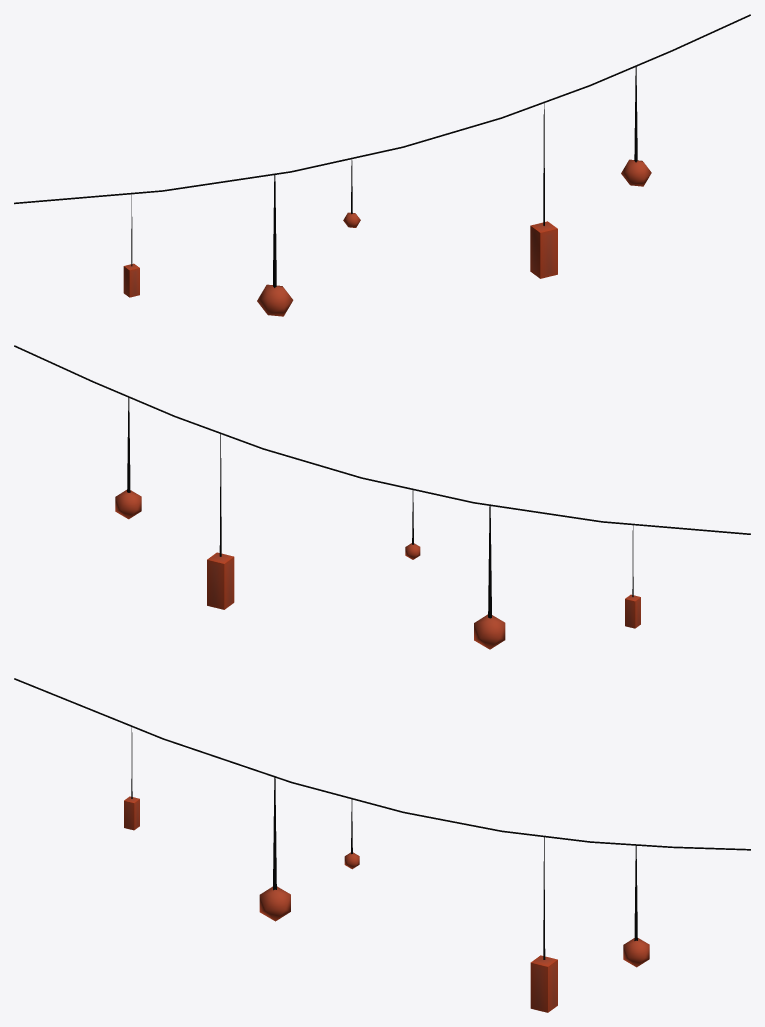
File: Garland_B_5_SpherifyQuadLamps_Red.fbx
3 renders of one model, top to bottom at view 1: azimuth 30°, elevation 25°; view 2: azimuth 150°, elevation 25°; view 3: azimuth 330°, elevation 25°, orthographic.
Visible parts, largest first — view 1: Garland_B_5_SpherifyQuadLamps_Red; view 2: Garland_B_5_SpherifyQuadLamps_Red; view 3: Garland_B_5_SpherifyQuadLamps_Red.
Part boxes in pixels (left/top/right/bottom): Garland_B_5_SpherifyQuadLamps_Red: left=14, top=14, right=750, bottom=316; Garland_B_5_SpherifyQuadLamps_Red: left=14, top=345, right=750, bottom=649; Garland_B_5_SpherifyQuadLamps_Red: left=14, top=678, right=750, bottom=1012.
Bounding box in the file's own units: 676 × 184 × 29.13.
